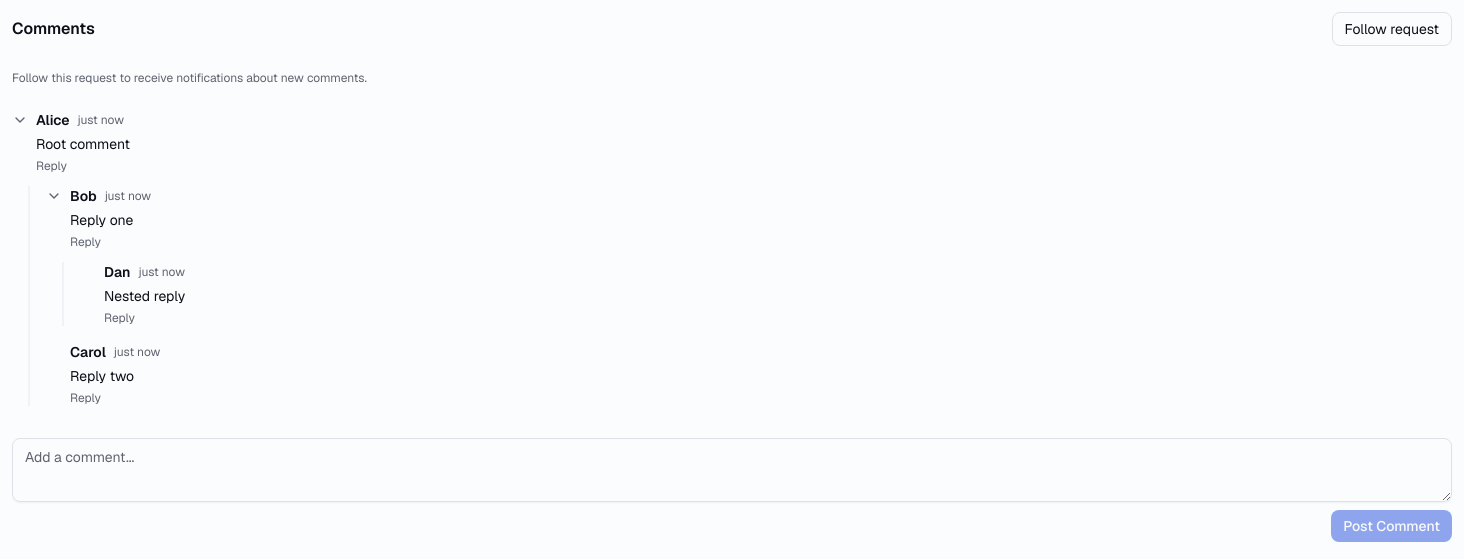
Scenario: CommentThread › threaded rendering › should hide all descendants when a thread is collapsed
Expected: the text "Reply one" is shown, [70, 211, 133, 229]
Expected: the text "Nested reply" is shown, [104, 287, 185, 305]
Click the button named "collapse thread" next to "Alice" at (20, 120), box [12, 112, 28, 128]
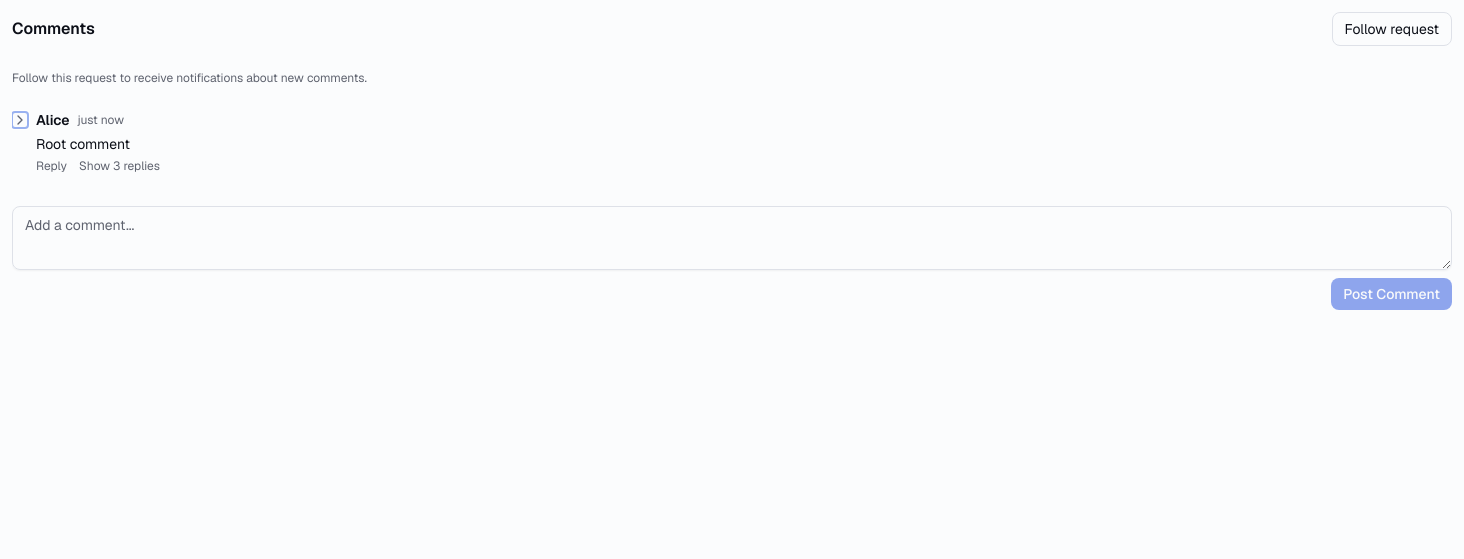
Now the text "Reply one" is gone
Now the text "Reply two" is gone
Now the text "Nested reply" is gone
